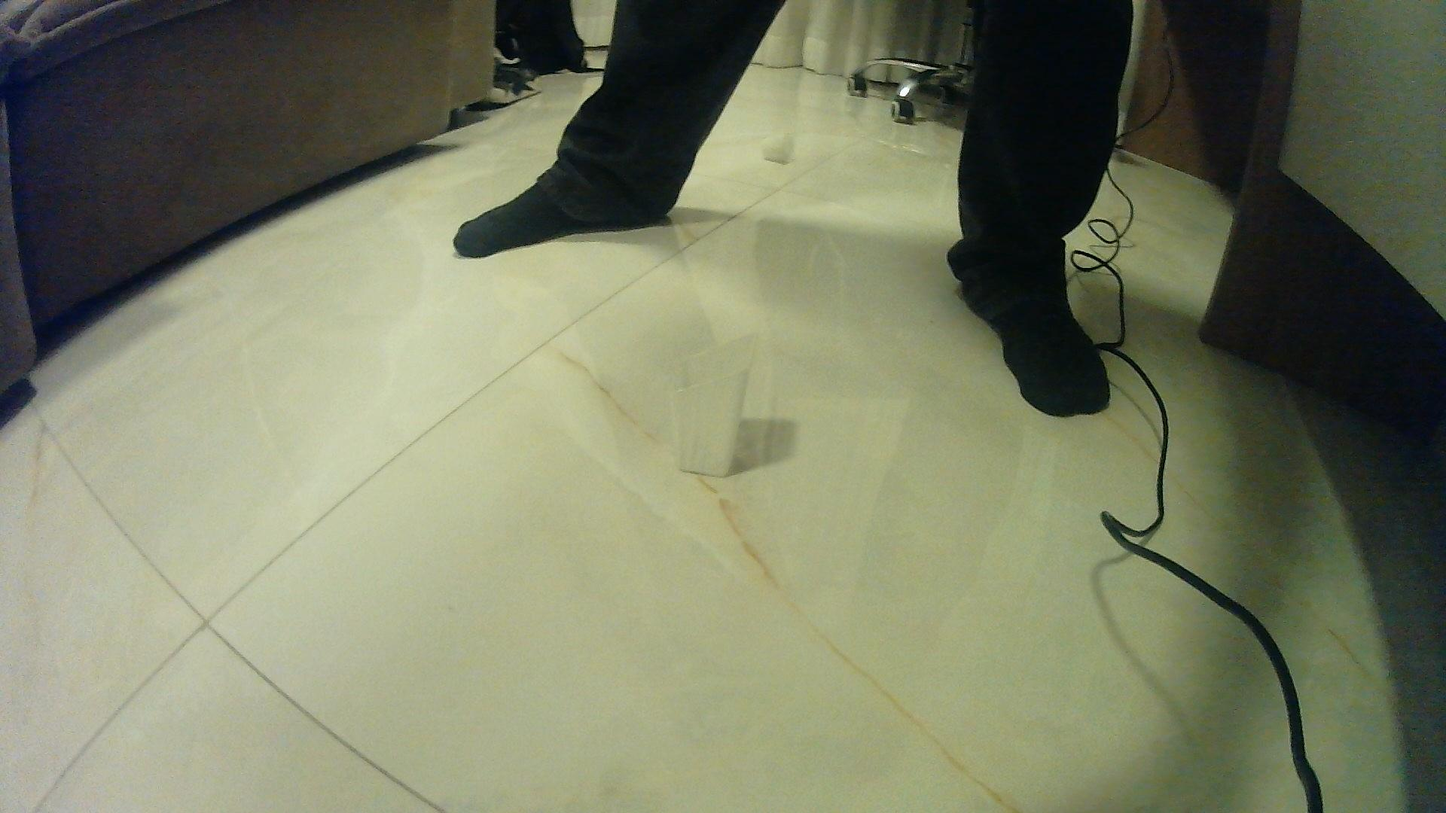erva_daninha: (661, 327, 765, 480)
